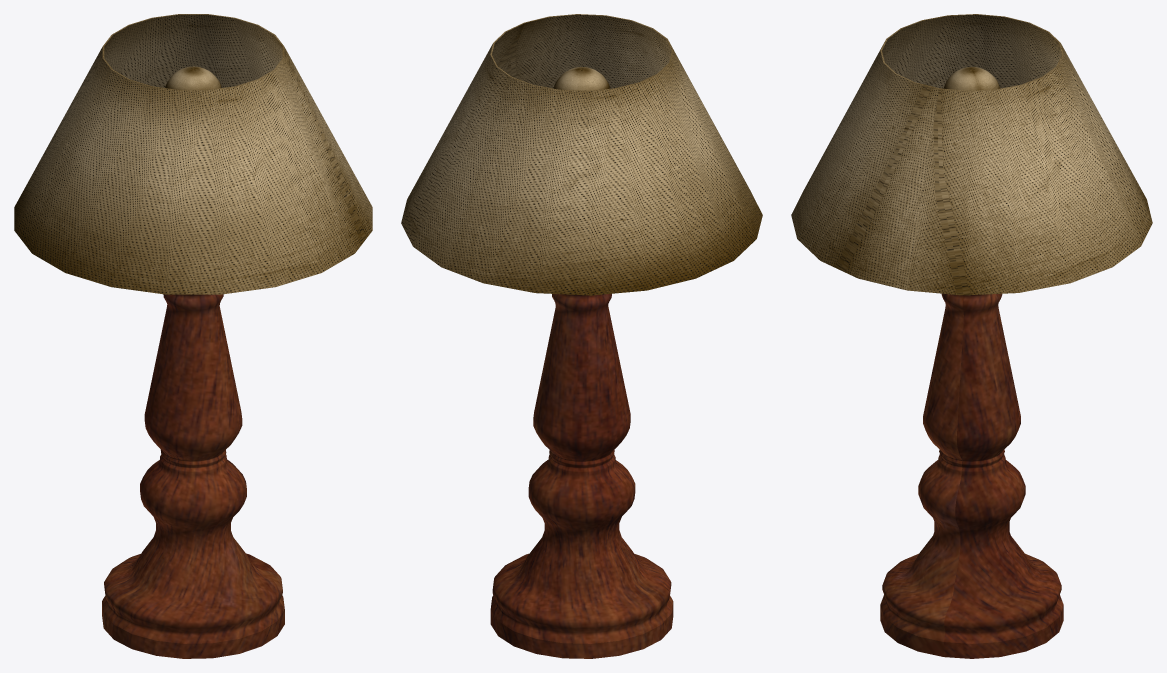
The model's file is DeskLamp.fbx.
The picture shows the model from 3 angles, left to right: view 1: azimuth 30°, elevation 25°; view 2: azimuth 150°, elevation 25°; view 3: azimuth 270°, elevation 25°; orthographic projection.
Parts seen in each view (by area): view 1: Cone, Body, pSphere1; view 2: Cone, Body, pSphere1; view 3: Cone, Body, pSphere1.
Part boxes in pixels (x1,y1,x2,y2): Cone: (14,14,372,294); Body: (102,294,284,658); pSphere1: (165,66,221,89); Cone: (401,14,762,295); Body: (490,293,673,658); pSphere1: (554,67,610,90); Cone: (791,14,1152,295); Body: (880,293,1063,658); pSphere1: (943,66,1000,90).
Bounding box in the file's own units: 0.394 × 0.6822 × 0.394.
